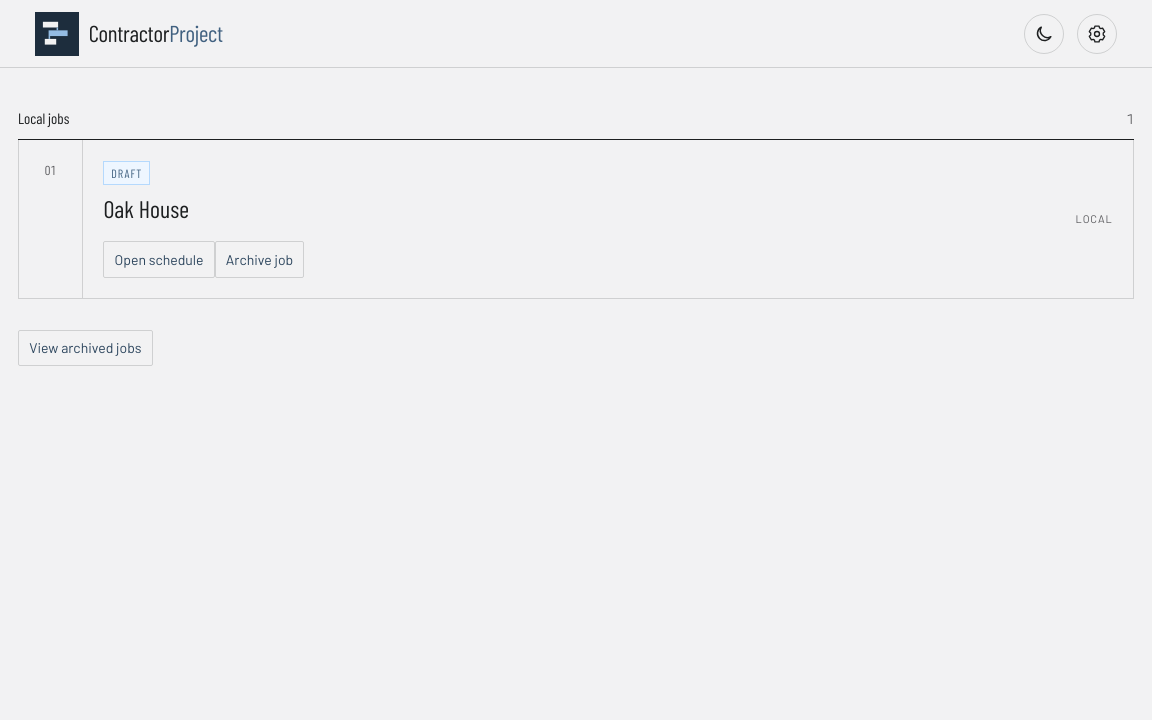
Test case: workspace state guards › keeps exact persisted minutes clean across working-day units
The width and height of the screenshot is (1152, 720).
Click the button with aria-label "Open schedule for Oak House" at (159, 259), box [103,241,215,278]
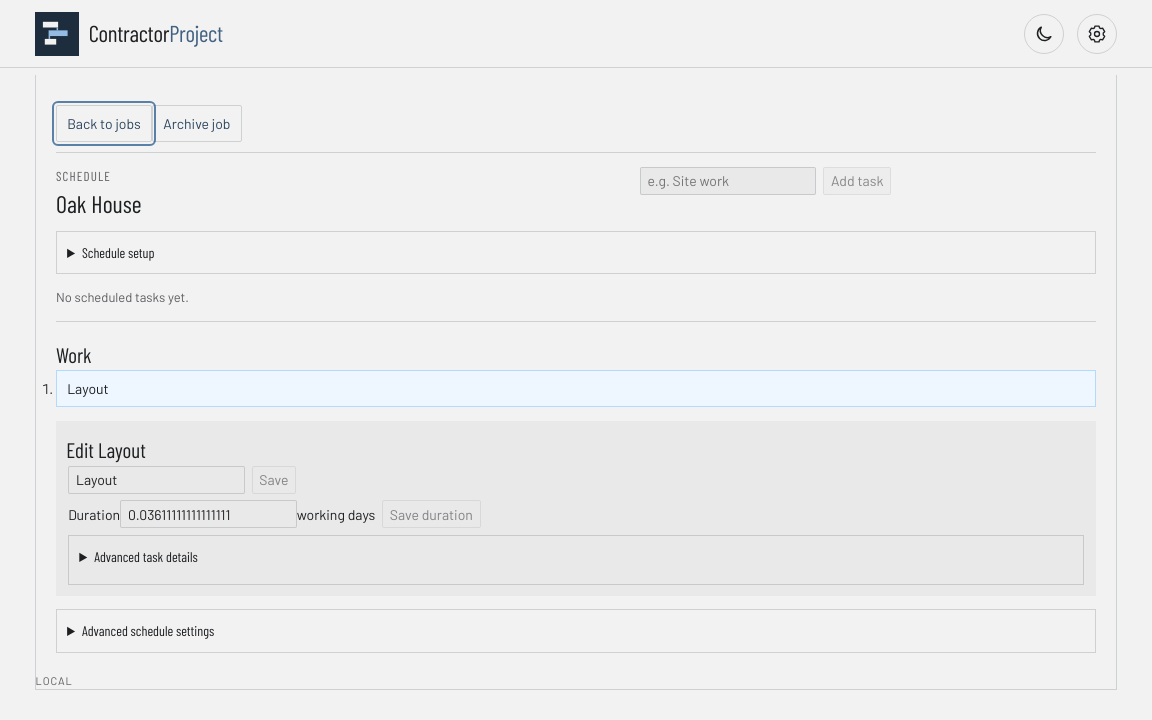
Expected: the number field named "Duration for Layout" holds "0.03611111111111111", [120,500,297,528]
Expected: the button "Save duration" is disabled, [382,500,481,528]
